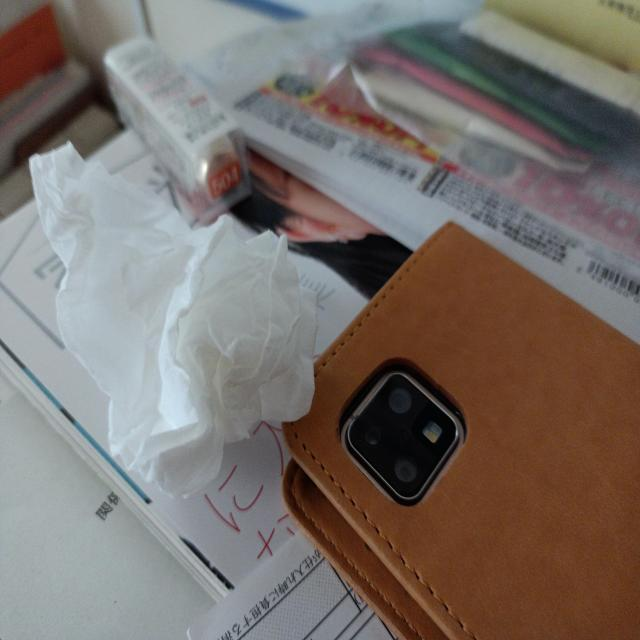Paper: (19, 144, 333, 491)
